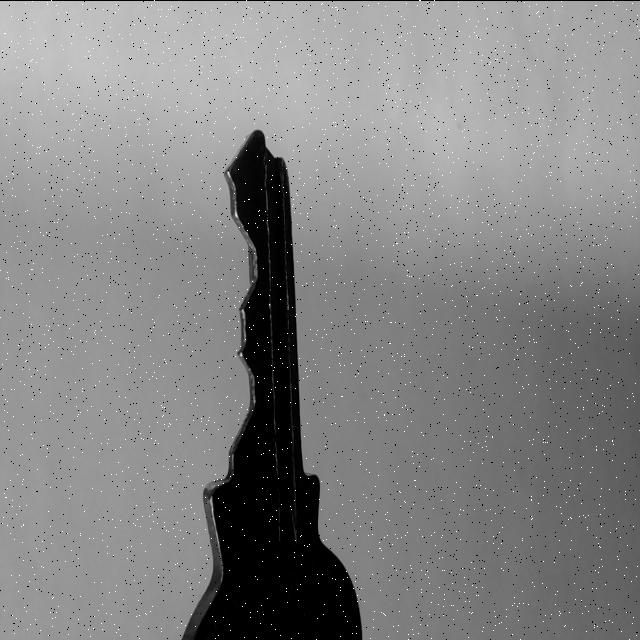key: (183, 129, 362, 640)
